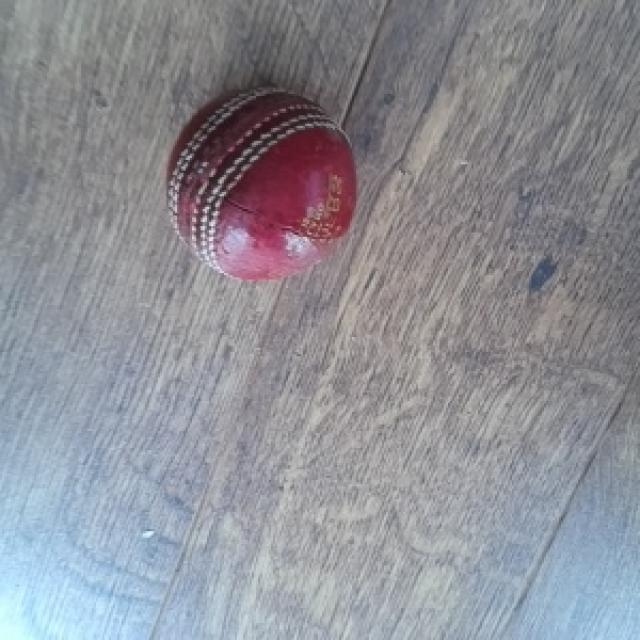ball: (167, 80, 363, 286)
